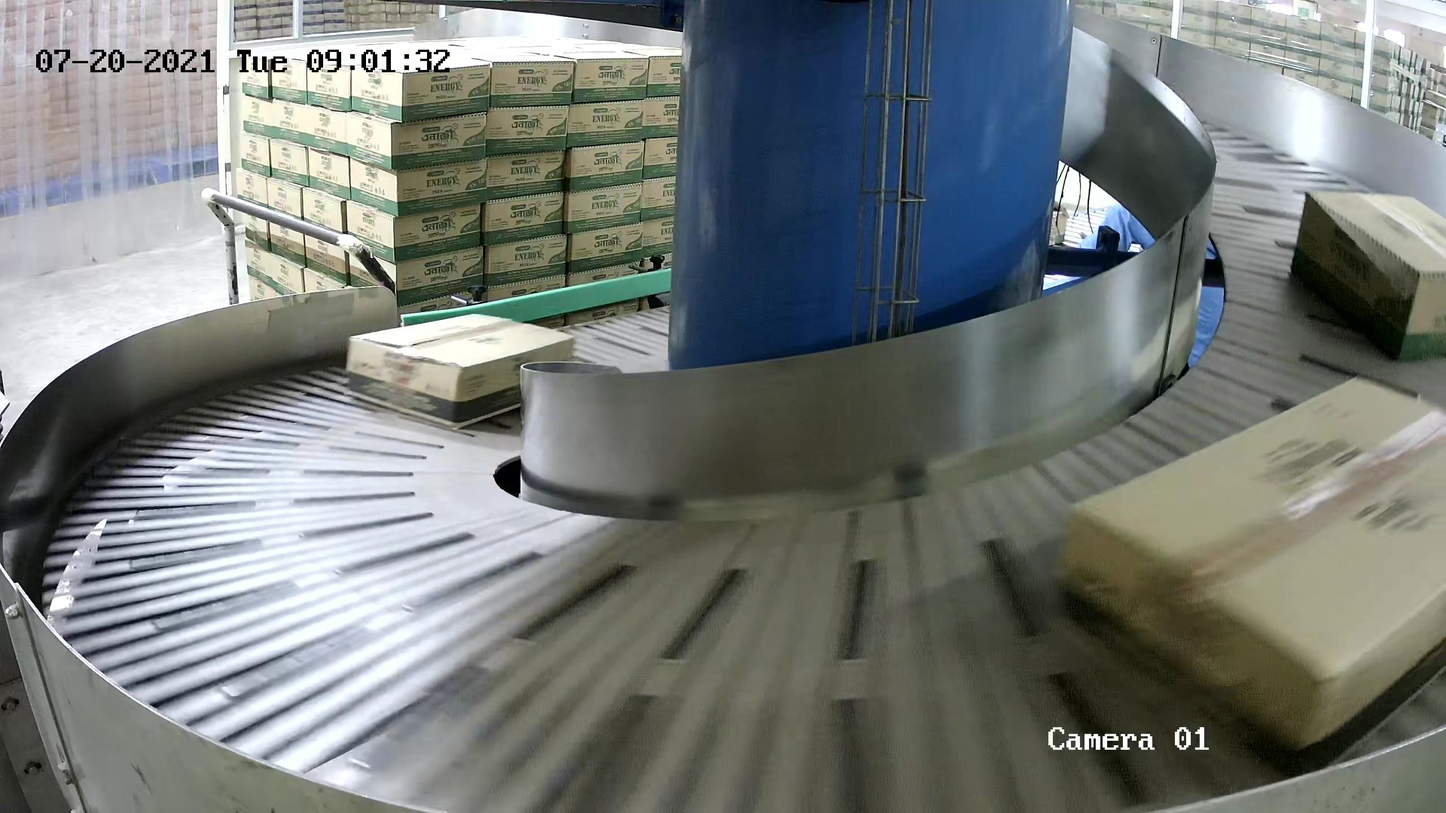Box: (1064, 374, 1446, 787), (1290, 189, 1446, 365), (345, 313, 575, 432)
